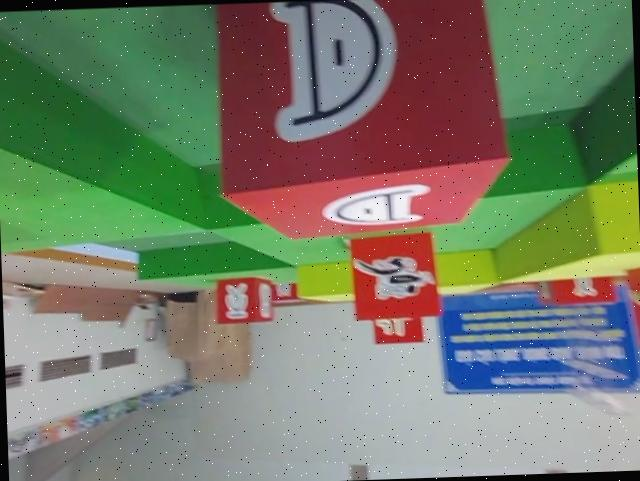R1: (350, 231, 442, 324)
R2 Fake: (212, 273, 273, 326)
R2 Real: (207, 0, 514, 246)
